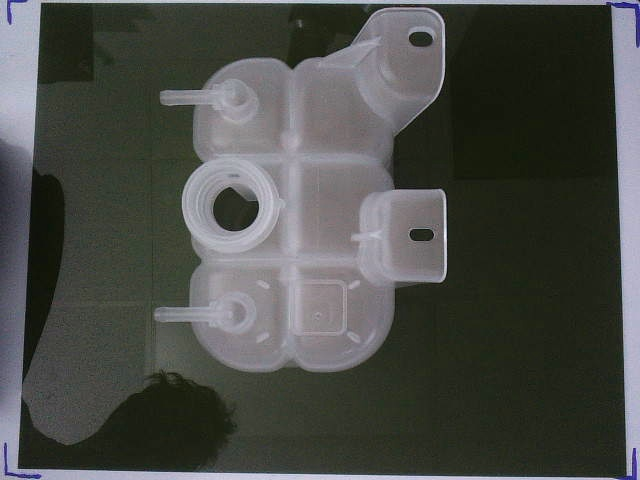reservoir_transparent_Top: (153, 7, 448, 374)
